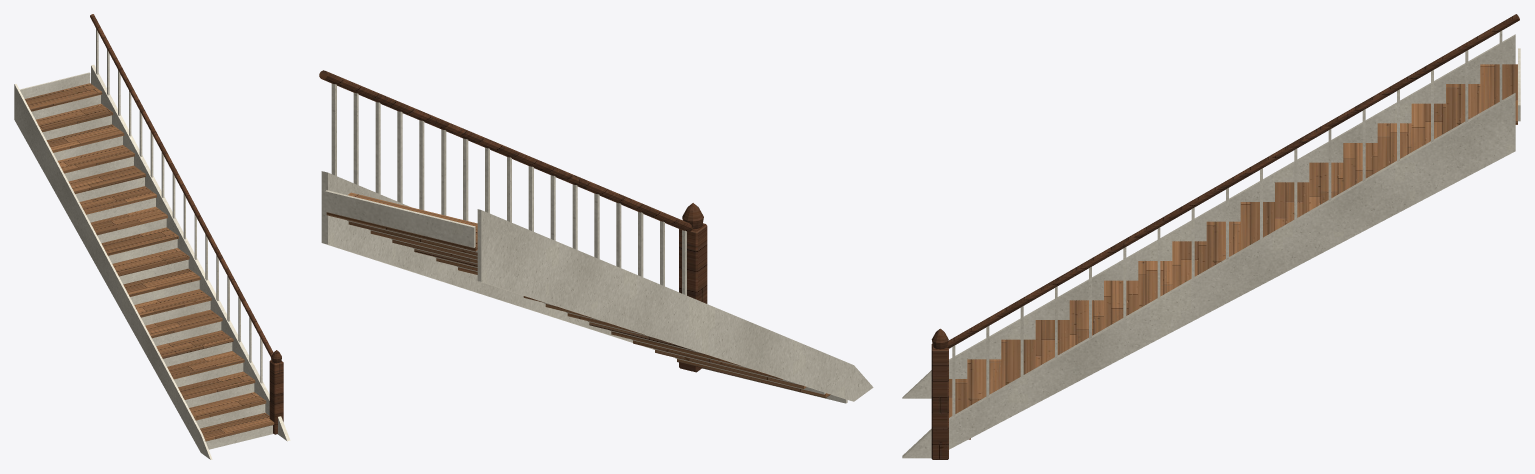
Rendered from stair.glb.
3 views of the same model, side by side, from view 1: azimuth 30°, elevation 25°; view 2: azimuth 150°, elevation 25°; view 3: azimuth 270°, elevation 25° (orthographic). The views are drawn at different scales.
Visible parts, largest first — view 1: stair_trim, stair_floor, stair_wood; view 2: stair_trim, stair_wood, stair_floor; view 3: stair_trim, stair_floor, stair_wood.
Boxes of the visible parts, x1=… form: stair_trim: x1=14, y1=28, x2=290, y2=459; stair_floor: x1=24, y1=83, x2=274, y2=441; stair_wood: x1=90, y1=14, x2=283, y2=434; stair_trim: x1=321, y1=83, x2=873, y2=403; stair_wood: x1=319, y1=70, x2=707, y2=372; stair_floor: x1=326, y1=192, x2=830, y2=398; stair_trim: x1=902, y1=30, x2=1520, y2=458; stair_floor: x1=949, y1=64, x2=1517, y2=439; stair_wood: x1=931, y1=14, x2=1519, y2=459.
Bounding box in the file's own units: 1.23 × 4 × 5.06.
3 materials, 3 textured.
